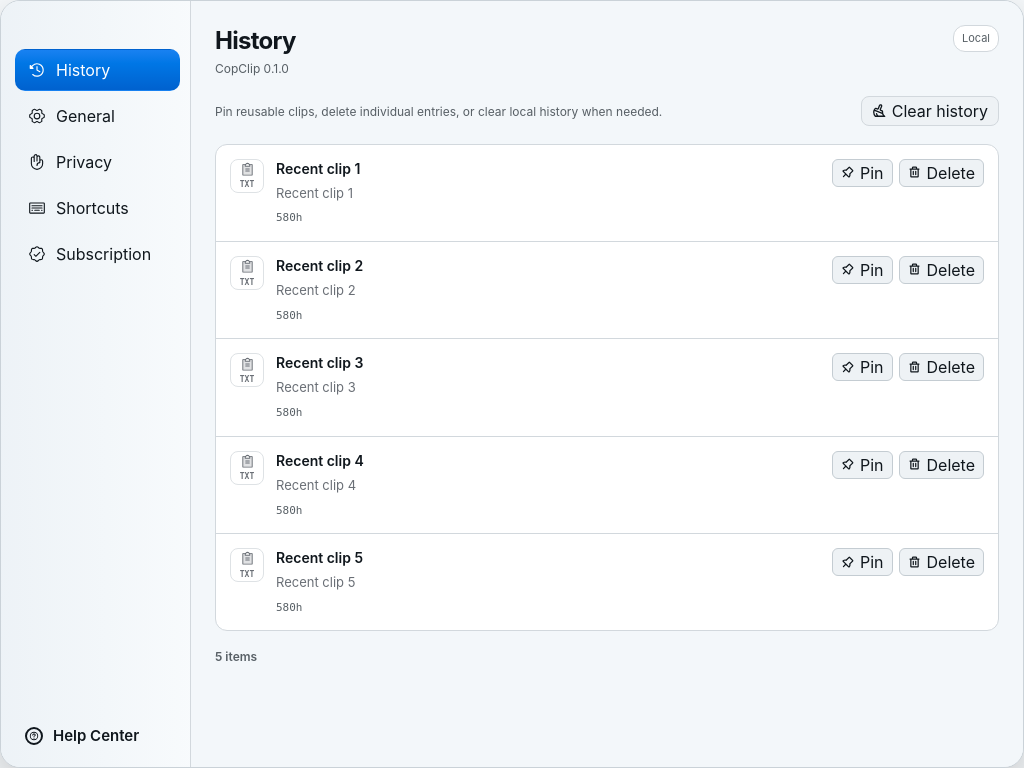
Test: CopClip app shell › shows desktop history controls for local clipboard management
Expected: the 1st text "Recent clip 1" is shown, top-left (276, 158), bottom-right (360, 178)
Click the button with aria-label "Pin clipboard item: Recent clip 1" at (862, 172), box top-left (832, 158), bottom-right (892, 186)
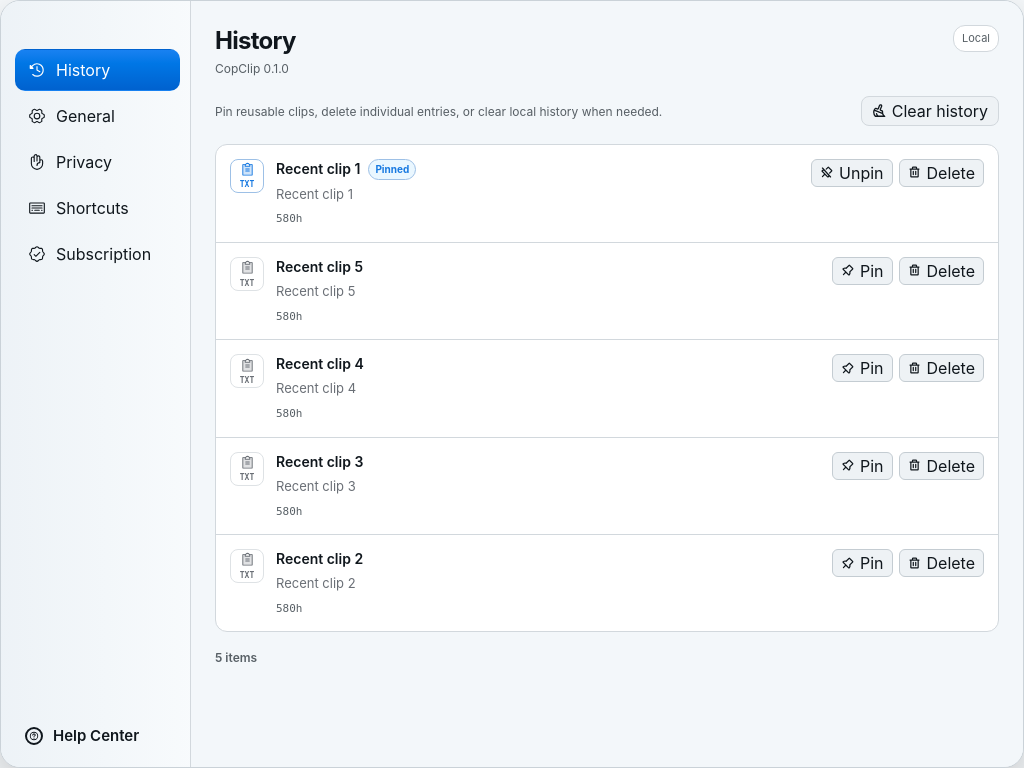
Expected: the text "Pinned" is shown, top-left (368, 158), bottom-right (416, 180)
Click the button with aria-label "Delete clipboard item: Recent clip 1" at (941, 172), box top-left (898, 158), bottom-right (984, 186)
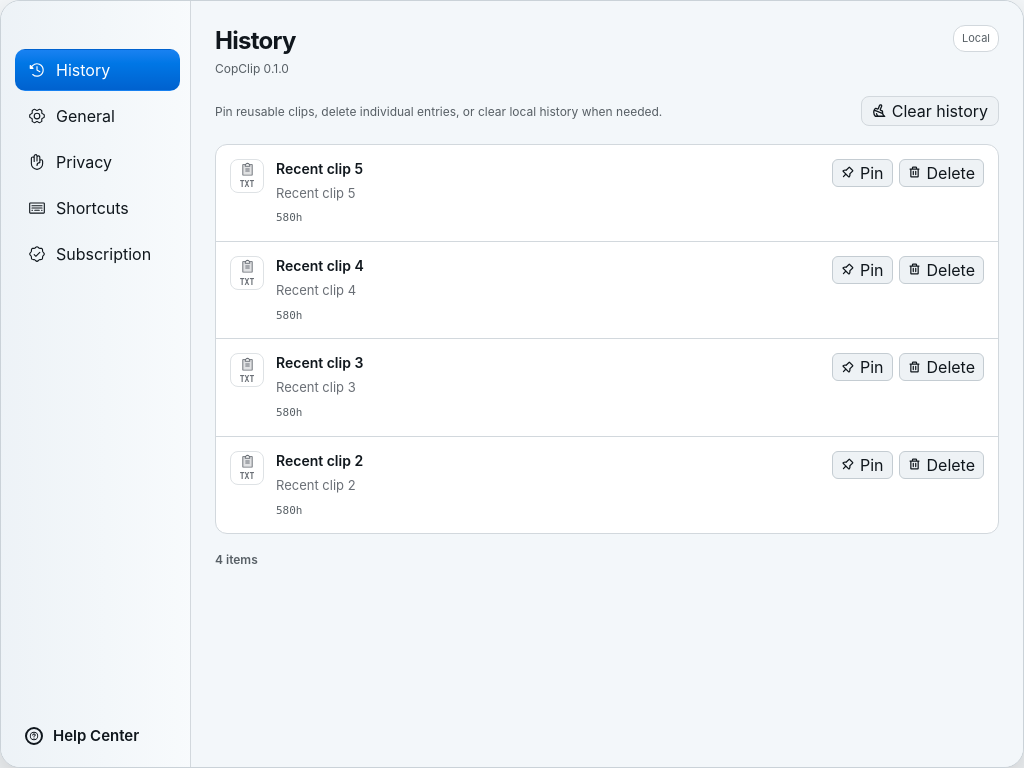
Expected: the text "Recent clip 1" is gone
Click the button "Clear history" at (930, 110), box top-left (861, 96), bottom-right (999, 126)
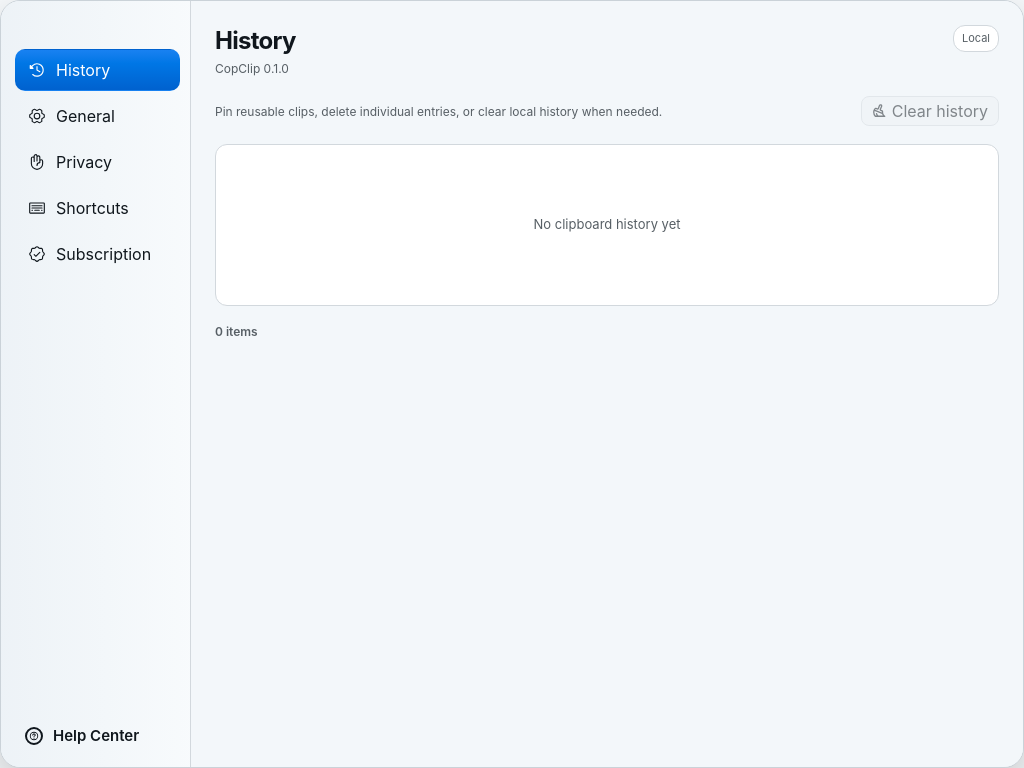
Expected: the text "No clipboard history yet" is shown, top-left (534, 216), bottom-right (680, 232)
